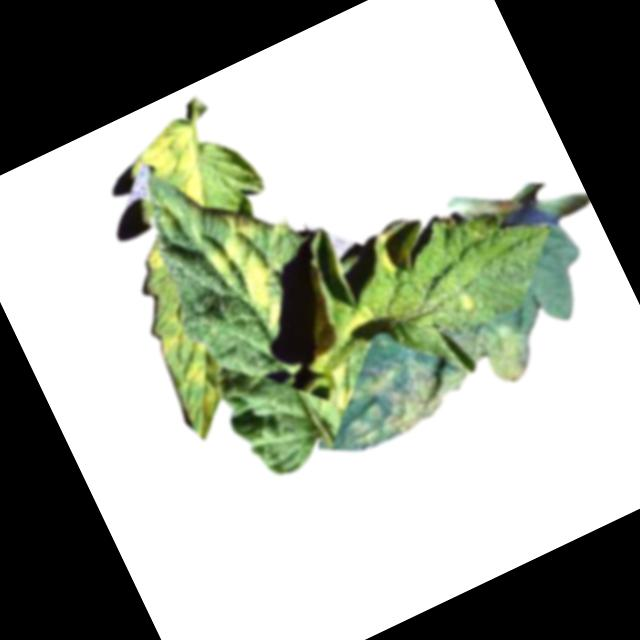Leaf_Mold: (324, 292, 549, 459), (128, 280, 244, 445), (194, 202, 308, 346), (296, 297, 405, 410), (128, 112, 223, 221), (367, 210, 442, 287), (138, 241, 169, 275)
